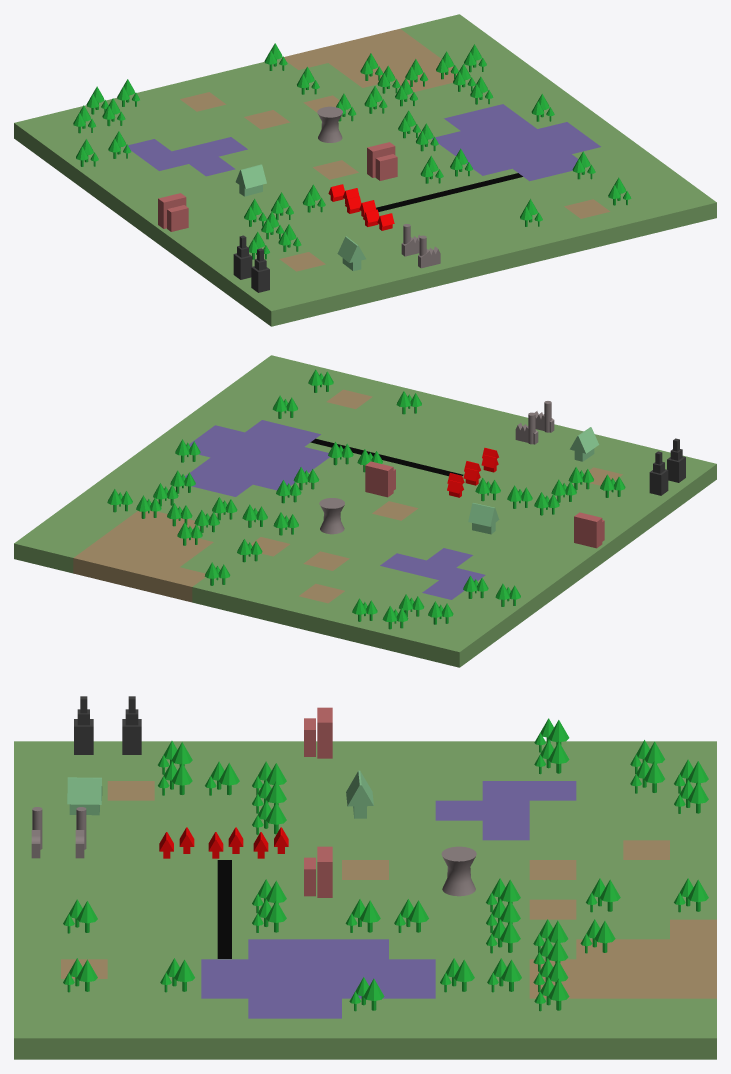
File: map.fbx
The picture shows the model from 3 angles, top to bottom: view 1: azimuth 30°, elevation 25°; view 2: azimuth 150°, elevation 25°; view 3: azimuth 270°, elevation 25°; orthographic projection. The views are drawn at different scales.
Visible parts, largest first — view 1: pCube105, hospitalMSH1, hospitalMSH, pCube210, pCube115, pCube150, pCube110, pCube120, pCube165, pCube195, pCube225, pCube125 (+121 smaller); view 2: pCube1, pCube196, pCube61, pCube91, pCube11, pCube51, pCube151, pCube181, pCube211, pCube71, pCube166, pCube41 (+121 smaller); view 3: pCube213, pCube215, pCube216, pCube220, pCube221, pCube223, pCube214, pCube222, pCube211, pCube212, pCube217, pCube218 (+217 smaller).
Boxes of the visible parts, bbox=[...] form: pCube105: bbox=[254, 291, 300, 326]; hospitalMSH1: bbox=[367, 142, 397, 180]; hospitalMSH: bbox=[158, 193, 188, 231]; pCube210: bbox=[640, 197, 687, 232]; pCube115: bbox=[314, 277, 360, 311]; pCube150: bbox=[522, 226, 568, 261]; pCube110: bbox=[284, 284, 330, 319]; pCube120: bbox=[344, 270, 389, 304]; pCube165: bbox=[551, 219, 597, 254]; pCube195: bbox=[611, 204, 657, 239]; pCube225: bbox=[670, 190, 716, 225]; pCube125: bbox=[373, 262, 419, 297]; pCube1: bbox=[430, 632, 476, 667]; pCube196: bbox=[43, 538, 90, 573]; pCube61: bbox=[251, 589, 298, 623]; pCube91: bbox=[162, 567, 205, 602]; pCube11: bbox=[400, 625, 446, 660]; pCube51: bbox=[281, 596, 327, 631]; pCube151: bbox=[133, 560, 179, 595]; pCube181: bbox=[73, 545, 119, 580]; pCube211: bbox=[14, 531, 60, 566]; pCube71: bbox=[222, 581, 268, 616]; pCube166: bbox=[103, 552, 149, 587]; pCube41: bbox=[311, 603, 353, 638]; pCube213: bbox=[576, 1018, 623, 1059]; pCube215: bbox=[482, 1018, 529, 1059]; pCube216: bbox=[435, 1018, 482, 1059]; pCube220: bbox=[248, 1018, 295, 1059]; pCube221: bbox=[201, 1018, 248, 1059]; pCube223: bbox=[107, 1018, 154, 1059]; pCube214: bbox=[529, 1018, 576, 1059]; pCube222: bbox=[154, 1018, 201, 1059]; pCube211: bbox=[670, 1018, 716, 1059]; pCube212: bbox=[623, 1018, 669, 1059]; pCube217: bbox=[389, 1018, 435, 1059]; pCube218: bbox=[342, 1018, 388, 1059].
Size of the model in its own units: 15 by 1.8 by 15.
